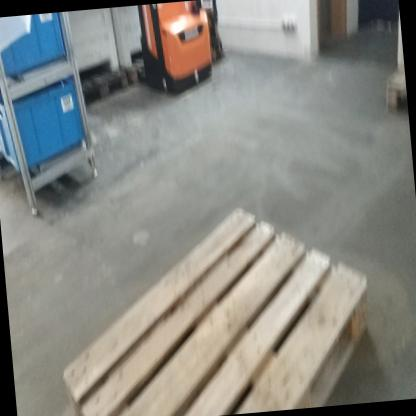BoxFace: (59, 201, 372, 416)
